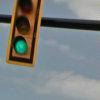Traffic light: (5, 2, 47, 73)
